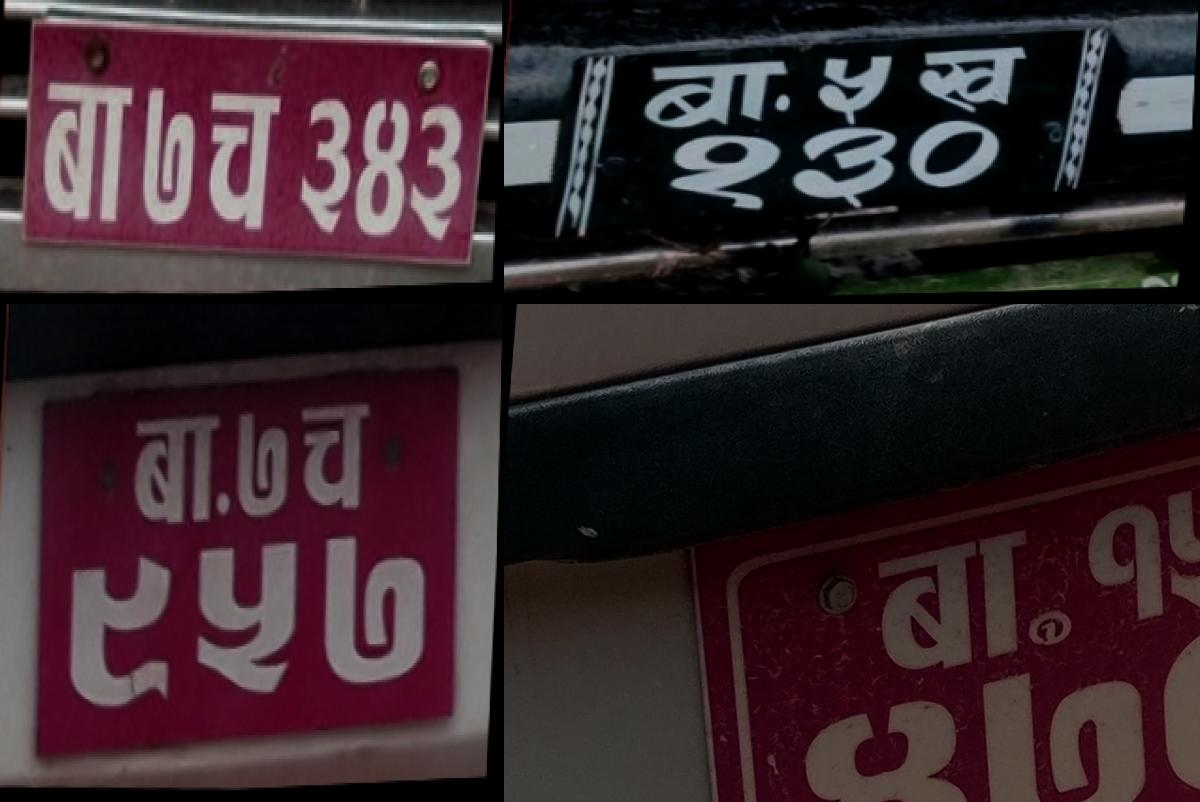0: (906, 119, 1015, 200), (1155, 611, 1200, 801)
1: (1071, 494, 1178, 641), (665, 131, 787, 217)
3: (293, 86, 358, 248), (793, 124, 907, 215), (408, 90, 468, 252)
4: (787, 688, 988, 802), (349, 87, 415, 249)
5: (192, 540, 311, 704), (807, 51, 902, 129), (1158, 475, 1200, 623)
7: (971, 664, 1164, 802), (315, 524, 442, 706), (136, 70, 202, 235), (229, 402, 295, 530)
9: (62, 544, 183, 722)
ba: (861, 519, 1039, 677), (34, 67, 139, 233), (128, 409, 228, 542), (639, 56, 795, 134)
cha: (198, 76, 287, 246), (295, 395, 388, 526)
kha: (913, 44, 1033, 122)
